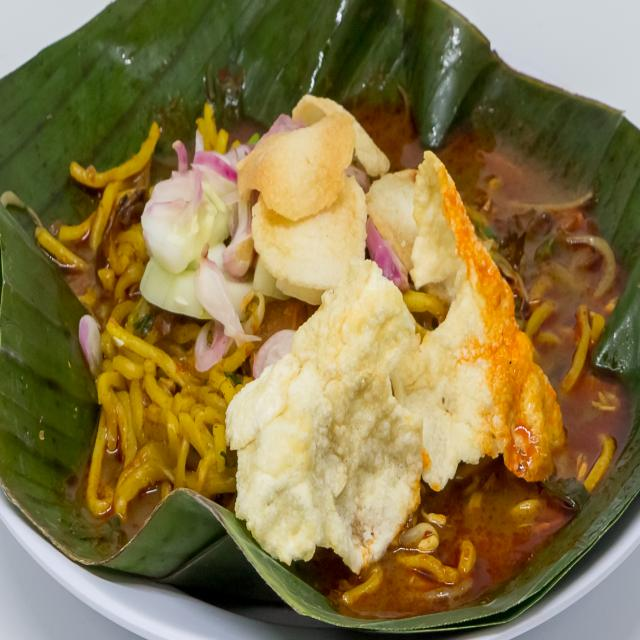Mie-Aceh: (24, 35, 619, 608)
